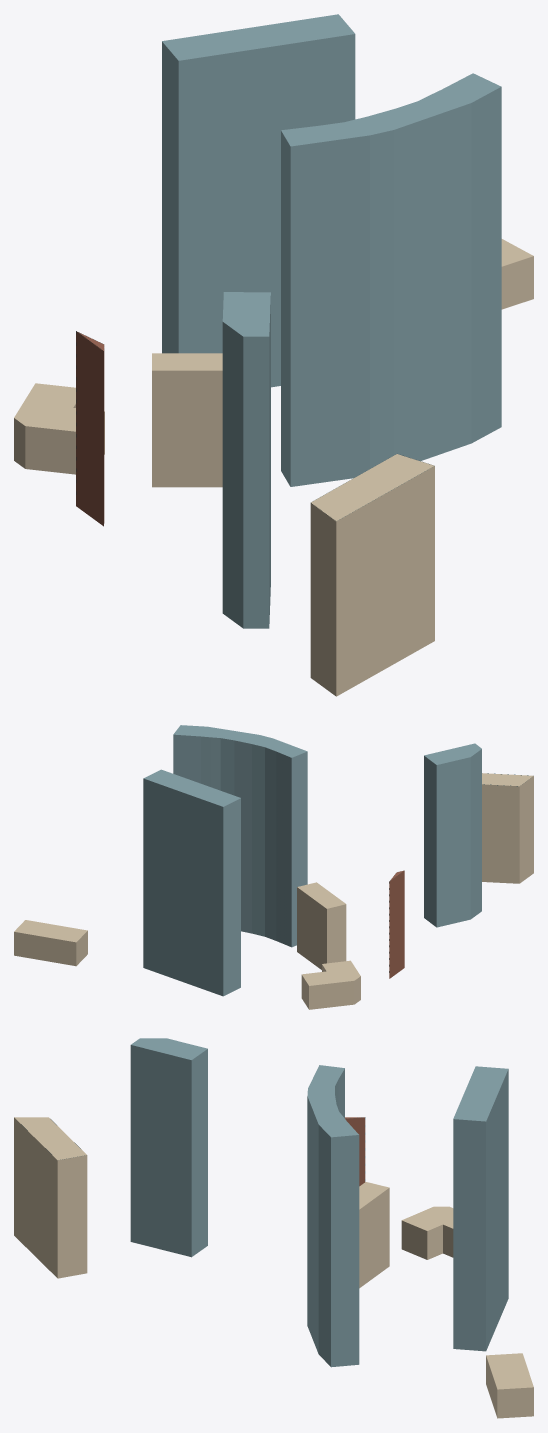
The model's file is city_-4_-5.glb.
3 views of the same model, one above another, from view 1: azimuth 30°, elevation 25°; view 2: azimuth 150°, elevation 25°; view 3: azimuth 270°, elevation 25° (orthographic). The views are drawn at different scales.
Parts seen in each view (by area): view 1: city_-4_-5; view 2: city_-4_-5; view 3: city_-4_-5.
Boxes of the visible parts, left/top/right/bottom form: city_-4_-5: left=14, top=14, right=533, bottom=696; city_-4_-5: left=14, top=725, right=533, bottom=1009; city_-4_-5: left=14, top=1038, right=533, bottom=1418.
Size of the model in its own units: 203 by 119 by 244.
